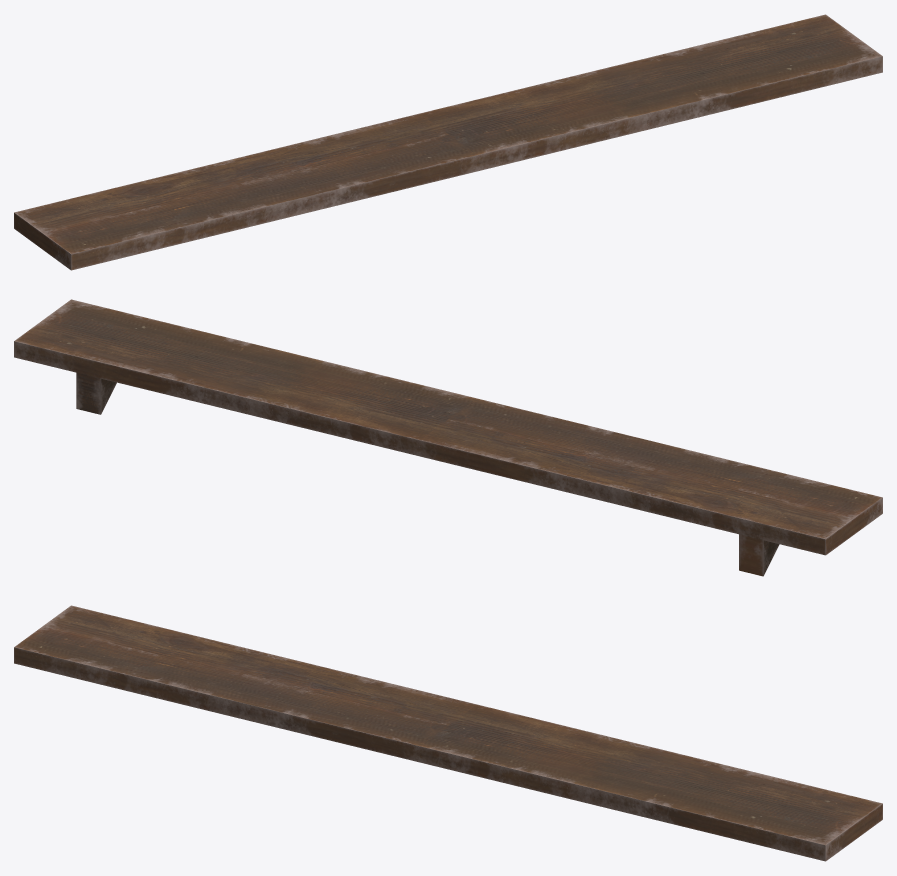
The picture shows the model from 3 angles, top to bottom: view 1: azimuth 30°, elevation 25°; view 2: azimuth 150°, elevation 25°; view 3: azimuth 330°, elevation 25°; orthographic projection.
Visible parts, largest first — view 1: SM_shelf.003_0; view 2: SM_shelf.003_0; view 3: SM_shelf.003_0.
Boxes of the visible parts, bbox=[...] form: SM_shelf.003_0: bbox=[14, 14, 882, 270]; SM_shelf.003_0: bbox=[14, 299, 882, 576]; SM_shelf.003_0: bbox=[14, 605, 882, 861].
Bounding box in the file's own units: 1.71 × 0.1054 × 0.2084.
1 material, 1 textured.
